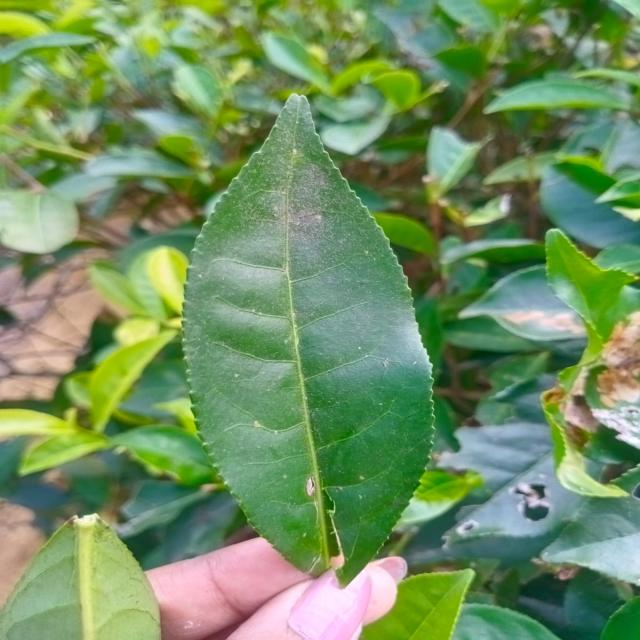Category D 7+ days, Not for Tea: (144, 72, 443, 599)
